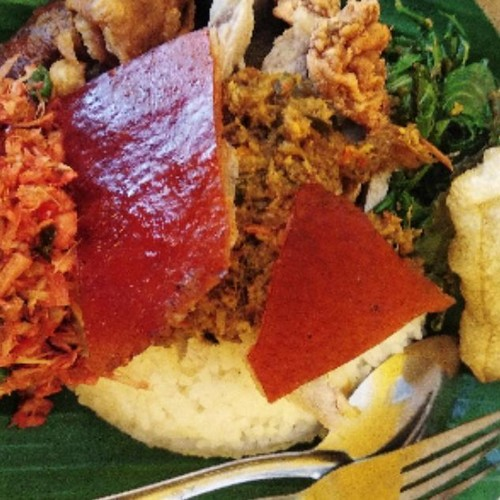lawar: (1, 101, 73, 395)
